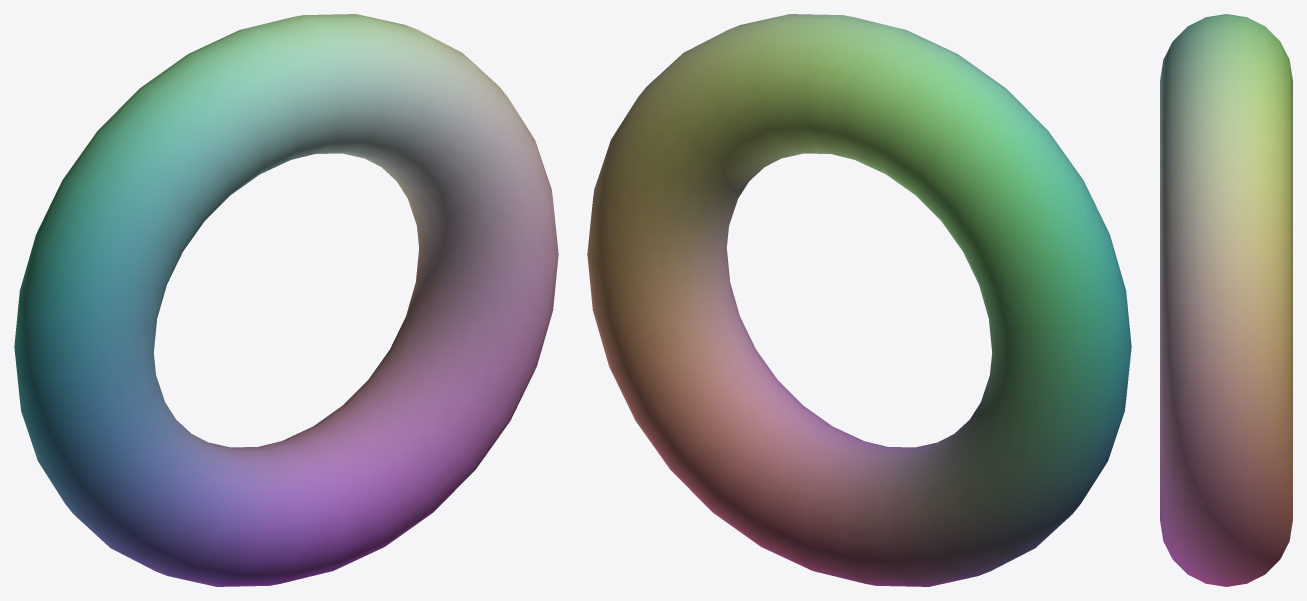
File: sample_mesh.glb
3 renders of one model, left to right at view 1: azimuth 30°, elevation 25°; view 2: azimuth 150°, elevation 25°; view 3: azimuth 270°, elevation 25°, orthographic. The views are drawn at different scales.
Bounding box in the file's own units: 2.6 × 2.59 × 0.6.
